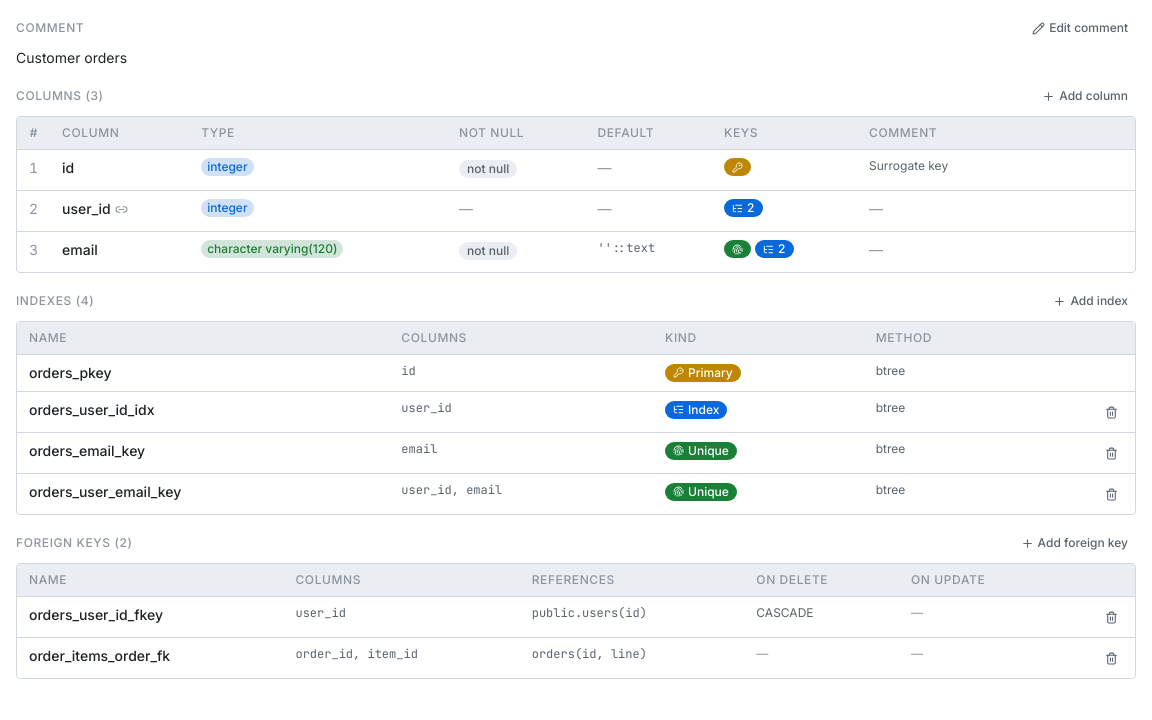
Test: TableStructurePanel — derived per-column indicators › summarises the indexes in the chip tooltip
This screenshot has width=1152, height=720.
Hover over the button named "2 indexes on user_id": (743, 208) [724,199,762,217]
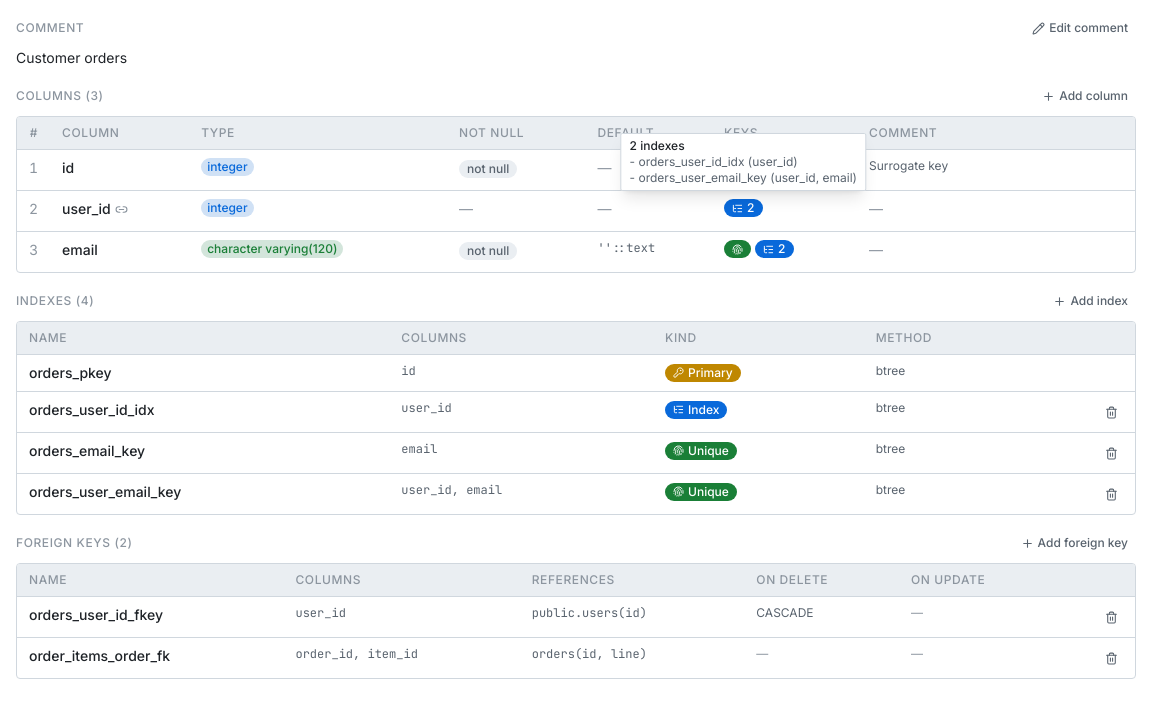
Expected: the tooltip shows "2 indexes", [621,133,866,191]
Expected: the tooltip shows "- orders_user_id_idx (user_id)", [621,133,866,191]
Expected: the tooltip shows "- orders_user_email_key (user_id, email)", [621,133,866,191]
